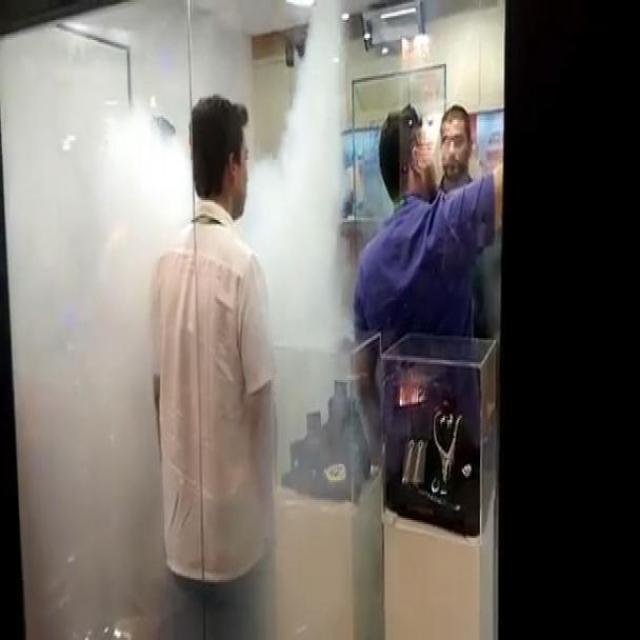Smoke: (22, 125, 160, 518), (264, 147, 348, 423)
